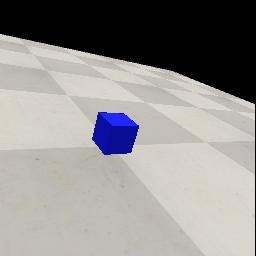box: (91, 111, 139, 156)
